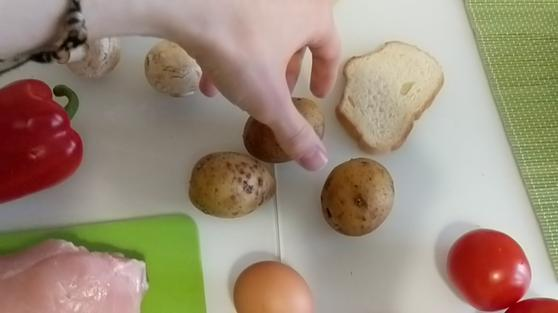champignon: (136, 37, 208, 103), (63, 34, 127, 83)
chicken_fillet: (1, 226, 156, 313)
egg: (232, 261, 319, 313)
pepper: (1, 70, 92, 201)
potato: (320, 153, 402, 237), (181, 147, 275, 217), (236, 91, 321, 162)
tomato: (450, 229, 536, 307)
white_bread: (333, 35, 460, 158)
